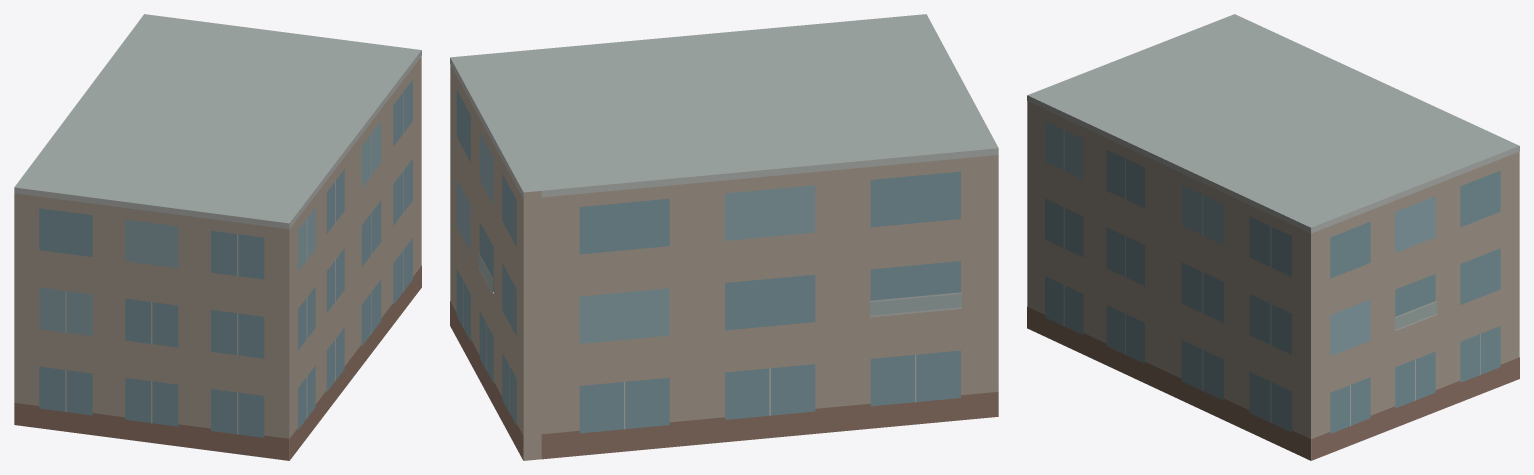
File: survey-upis-32832701.glb
The picture shows the model from 3 angles, left to right: view 1: azimuth 30°, elevation 25°; view 2: azimuth 150°, elevation 25°; view 3: azimuth 270°, elevation 25°; orthographic projection. The views are drawn at different scales.
Parts seen in each view (by area): view 1: survey-upis-32832701.tmp; view 2: survey-upis-32832701.tmp; view 3: survey-upis-32832701.tmp.
Boxes of the visible parts, bbox=[...] form: survey-upis-32832701.tmp: bbox=[14, 14, 421, 460]; survey-upis-32832701.tmp: bbox=[450, 14, 998, 460]; survey-upis-32832701.tmp: bbox=[1027, 14, 1519, 460].
Size of the model in its own units: 19.29 by 9.8 by 18.77.
